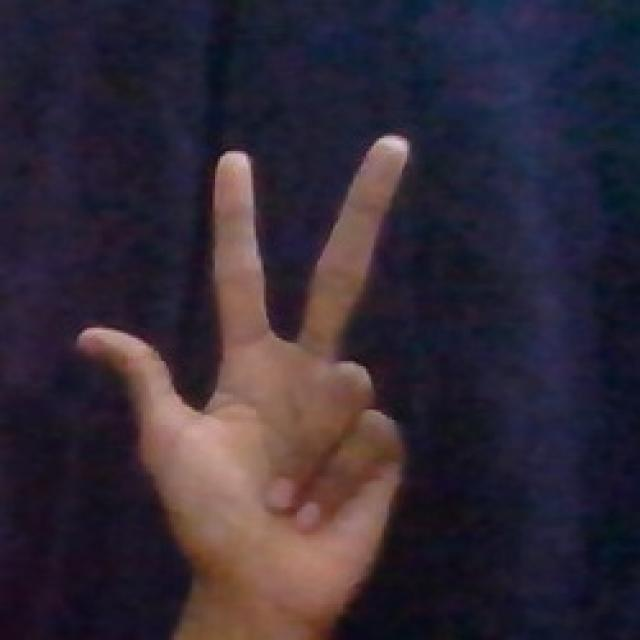Numeric-3: (82, 134, 410, 606)
